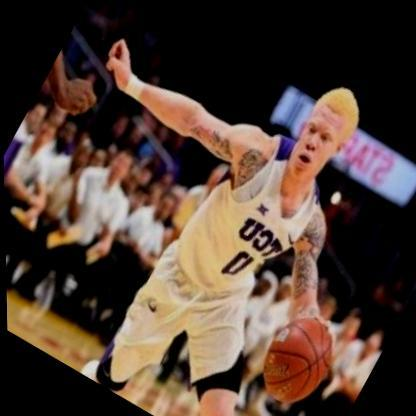basketball: (237, 294, 352, 416)
